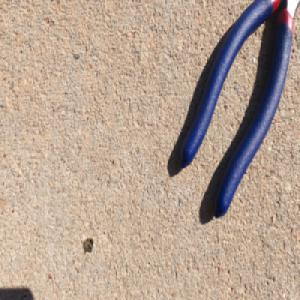Pliers: (177, 0, 297, 222)
